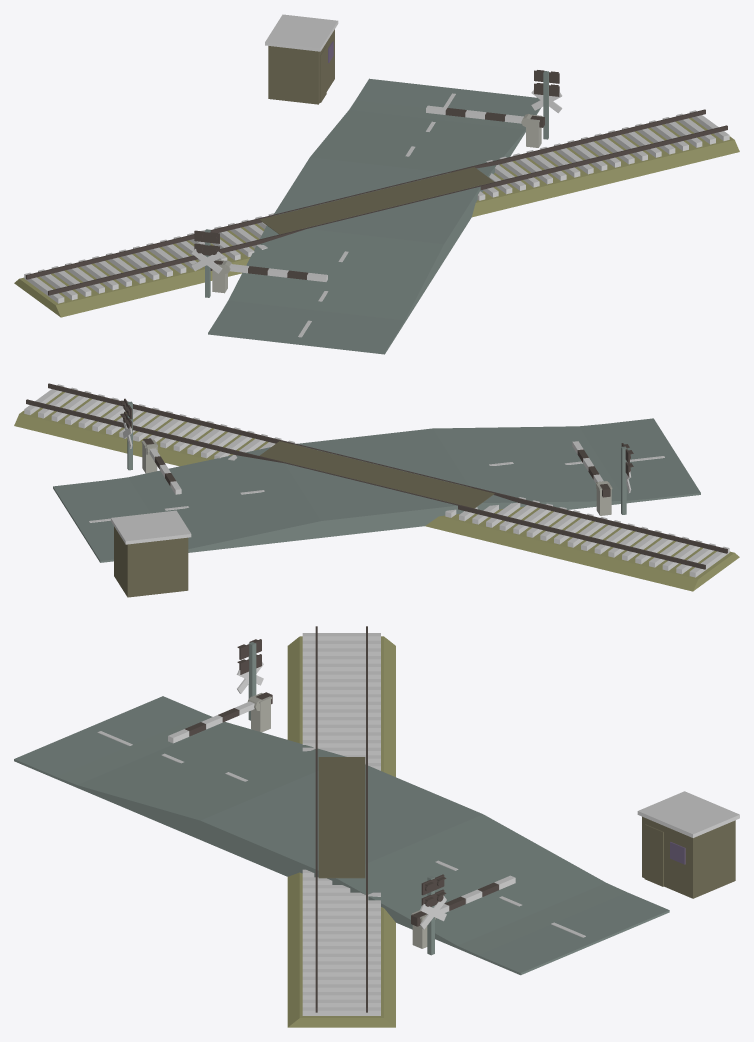
Rendered from SM_PasoNivel_45E_v1_FocosDobles_LOD0.fbx.
The picture shows the model from 3 angles, top to bottom: view 1: azimuth 30°, elevation 25°; view 2: azimuth 150°, elevation 25°; view 3: azimuth 270°, elevation 25°; orthographic projection. The views are drawn at different scales.
Parts seen in each view (by area): view 1: SM_paso_nivel_kit_v31_LOD0, Barrera_1, Barrera_2; view 2: SM_paso_nivel_kit_v31_LOD0, Barrera_1, Barrera_2; view 3: SM_paso_nivel_kit_v31_LOD0, Barrera_2, Barrera_1.
Part boxes in pixels (box(x1,y1,x2,y2)): SM_paso_nivel_kit_v31_LOD0: box(14, 14, 739, 354); Barrera_1: box(426, 105, 544, 127); Barrera_2: box(210, 260, 327, 281); SM_paso_nivel_kit_v31_LOD0: box(14, 383, 739, 597); Barrera_1: box(143, 438, 181, 494); Barrera_2: box(572, 441, 610, 497); SM_paso_nivel_kit_v31_LOD0: box(14, 626, 739, 1027); Barrera_2: box(168, 692, 272, 743); Barrera_1: box(411, 875, 515, 926).
Size of the model in its own units: 30 by 2.8 by 24.11.
